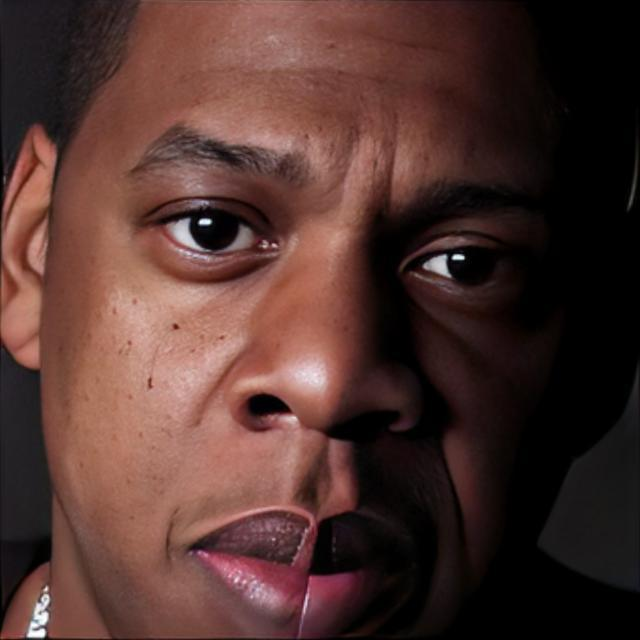sad: (39, 1, 582, 640)
